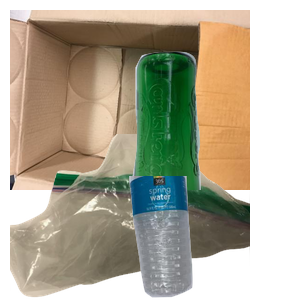cardboard: (10, 10, 250, 190)
glass: (129, 49, 300, 229)
plastic: (127, 176, 300, 300)
trash: (10, 134, 250, 300)
